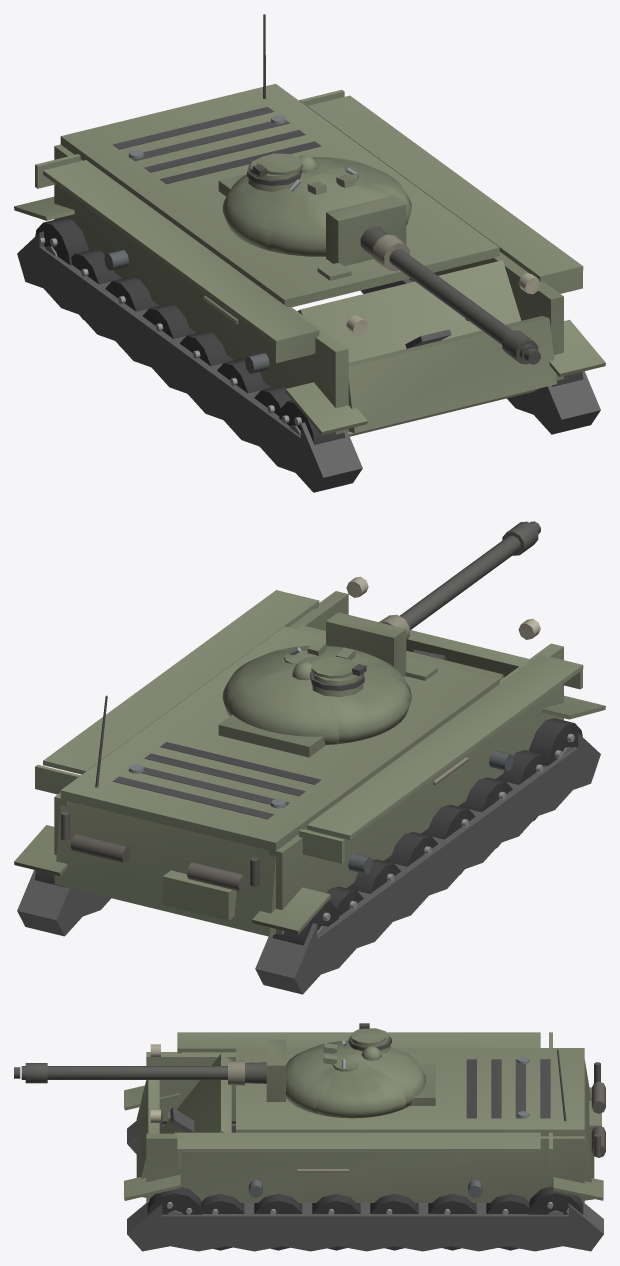
The picture shows the model from 3 angles, top to bottom: view 1: azimuth 30°, elevation 25°; view 2: azimuth 150°, elevation 25°; view 3: azimuth 270°, elevation 25°; orthographic projection. The views are drawn at different scales.
Visible parts, largest first — view 1: hullSide, hullTop, tracks, lowerPlate, glacis, turretFront, barrel, turretSide, mantlet, turretRoof, wheel7, wheel1 (+6 smaller); view 2: hullSide, hullTop, tracks, hullRear, turretRear, turretSide, barrel, mantlet, turretRoof, lowerPlate, wheel6, glacis (+8 smaller); view 3: hullSide, tracks, hullTop, barrel, turretSide, glacis, turretFront, turretRear, hullRear, turretRoof, lowerPlate, mantlet (+8 smaller).
Boxes of the visible parts, left/top/right/bottom form: hullSide: left=35, top=89, right=583, bottom=434; hullTop: left=60, top=83, right=499, bottom=307; tracks: left=14, top=196, right=605, bottom=492; lowerPlate: left=348, top=316, right=556, bottom=433; glacis: left=297, top=260, right=539, bottom=436; turretFront: left=269, top=175, right=411, bottom=256; barrel: left=360, top=226, right=540, bottom=364; turretSide: left=222, top=158, right=411, bottom=251; mantlet: left=326, top=195, right=406, bottom=265; turretRoof: left=247, top=153, right=358, bottom=194; wheel7: left=35, top=217, right=88, bottom=265; wheel1: left=105, top=277, right=159, bottom=346; hullSide: left=35, top=576, right=583, bottom=934; hullTop: left=60, top=626, right=499, bottom=851; tracks: left=14, top=695, right=605, bottom=994; hullRear: left=54, top=695, right=277, bottom=936; turretRear: left=218, top=669, right=338, bottom=757; turretSide: left=222, top=649, right=411, bottom=743; barrel: left=379, top=521, right=540, bottom=639; mantlet: left=326, top=612, right=406, bottom=676; turretRoof: left=284, top=640, right=366, bottom=697; lowerPlate: left=406, top=630, right=528, bottom=677; wheel6: left=529, top=718, right=582, bottom=765; glacis: left=298, top=625, right=504, bottom=680; hullSide: left=146, top=1032, right=584, bottom=1202; tracks: left=124, top=1085, right=603, bottom=1251; hullTop: left=236, top=1048, right=584, bottom=1136; barrel: left=14, top=1060, right=266, bottom=1085; turretSide: left=316, top=1040, right=406, bottom=1118; glacis: left=160, top=1053, right=231, bottom=1133; turretFront: left=285, top=1044, right=351, bottom=1113; turretRear: left=353, top=1048, right=435, bottom=1108; hullRear: left=557, top=1049, right=605, bottom=1200; turretRoof: left=323, top=1023, right=391, bottom=1071; lowerPlate: left=136, top=1080, right=159, bottom=1197; mantlet: left=266, top=1039, right=285, bottom=1101.
Bounding box in the file's own units: 4.28 × 3.09 × 9.18.
